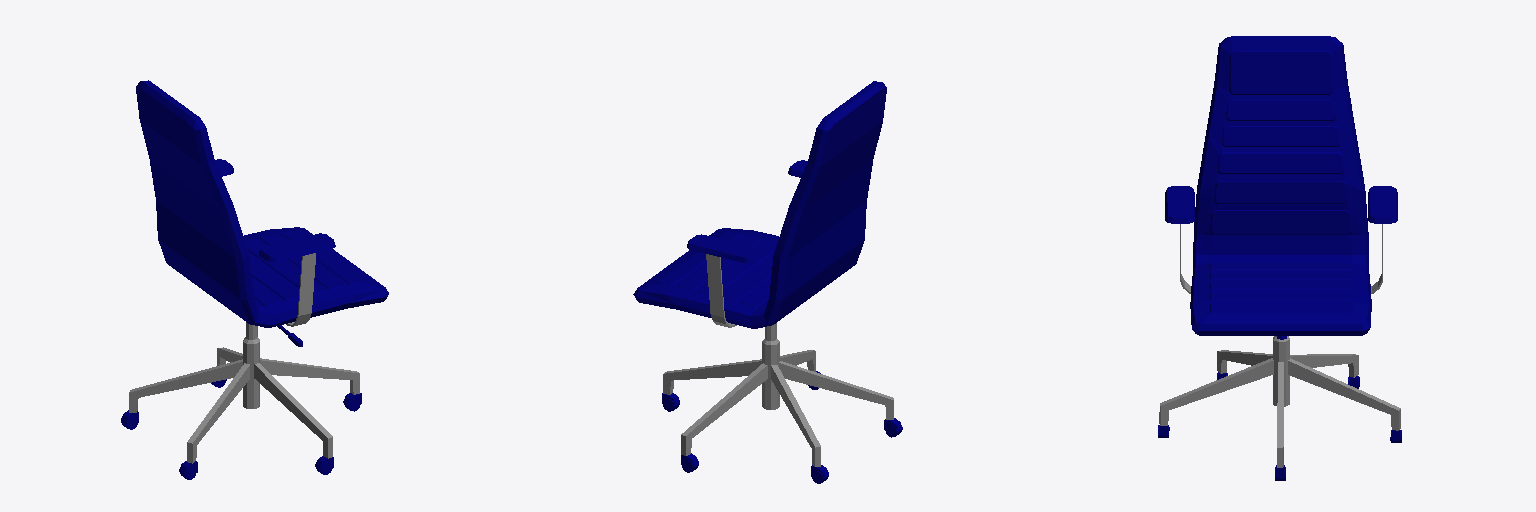
The model's file is BlueChair.obj.
3 views of the same model, side by side, from view 1: azimuth 30°, elevation 25°; view 2: azimuth 150°, elevation 25°; view 3: azimuth 270°, elevation 25° (orthographic).
Parts seen in each view (by area): view 1: chaircushionA_01, chairmetalA_01, chairplasticA_01; view 2: chaircushionA_01, chairmetalA_01, chairplasticA_01; view 3: chaircushionA_01, chairmetalA_01, chairplasticA_01.
Boxes of the visible parts, x1,y1,x2,y2 form: chaircushionA_01: [136, 80, 388, 327]; chairmetalA_01: [129, 253, 359, 463]; chairplasticA_01: [121, 325, 361, 479]; chaircushionA_01: [633, 81, 886, 328]; chairmetalA_01: [663, 254, 893, 466]; chairplasticA_01: [662, 371, 902, 483]; chaircushionA_01: [1165, 36, 1397, 335]; chairmetalA_01: [1159, 224, 1400, 467]; chairplasticA_01: [1158, 336, 1401, 480].
Size of the model in its own units: 2.21 by 3.61 by 2.24.